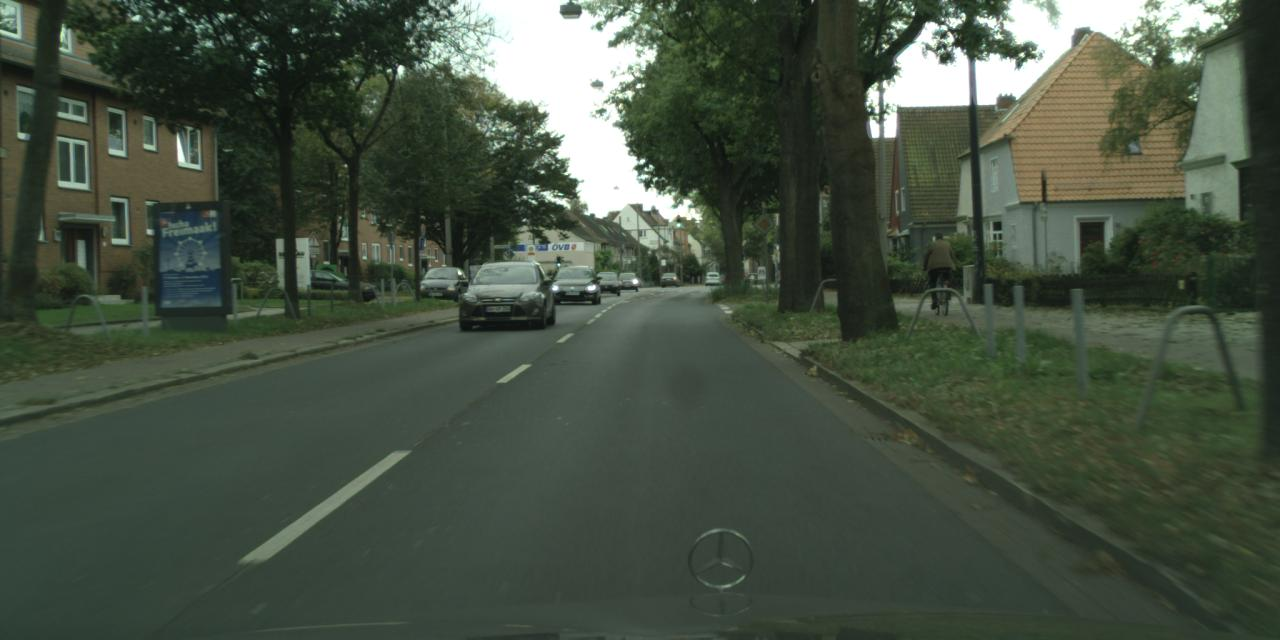ped: (926, 232, 954, 302), (548, 270, 556, 278)
